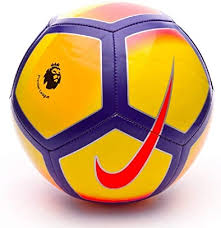football: (6, 1, 215, 205)
